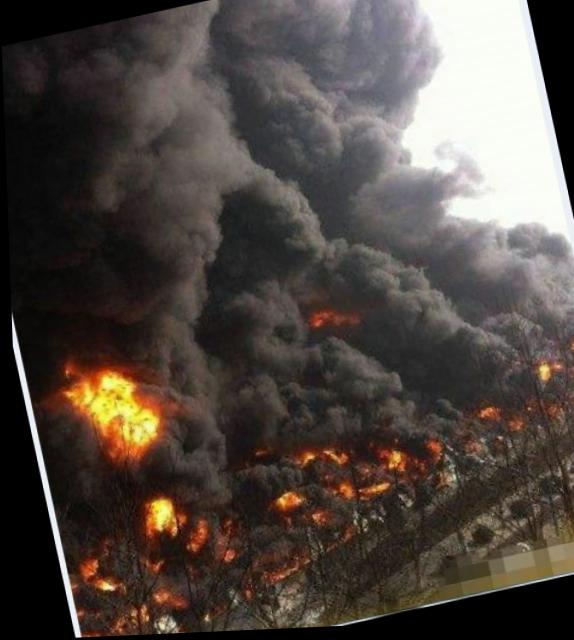fire: (67, 370, 163, 462), (139, 497, 171, 535), (269, 491, 297, 513), (87, 575, 113, 595), (355, 484, 384, 501), (531, 362, 550, 384), (380, 452, 395, 470)
